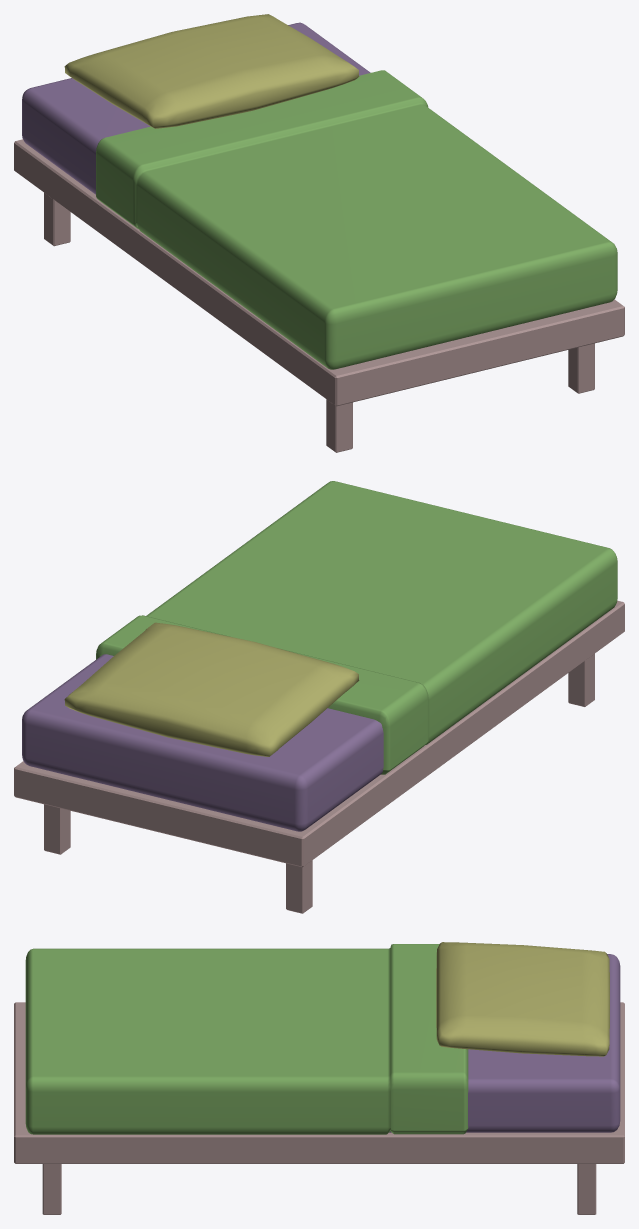
The model's file is bed_Present.fbx.
The picture shows the model from 3 angles, top to bottom: view 1: azimuth 30°, elevation 25°; view 2: azimuth 150°, elevation 25°; view 3: azimuth 270°, elevation 25°; orthographic projection. The views are drawn at different scales.
Parts seen in each view (by area): view 1: bed_Present; view 2: bed_Present; view 3: bed_Present.
Part boxes in pixels (left/top/right/bottom): bed_Present: left=14, top=14, right=624, bottom=452; bed_Present: left=14, top=481, right=624, bottom=913; bed_Present: left=14, top=942, right=624, bottom=1214.
Bounding box in the file's own units: 1.01 × 0.6168 × 1.92.
